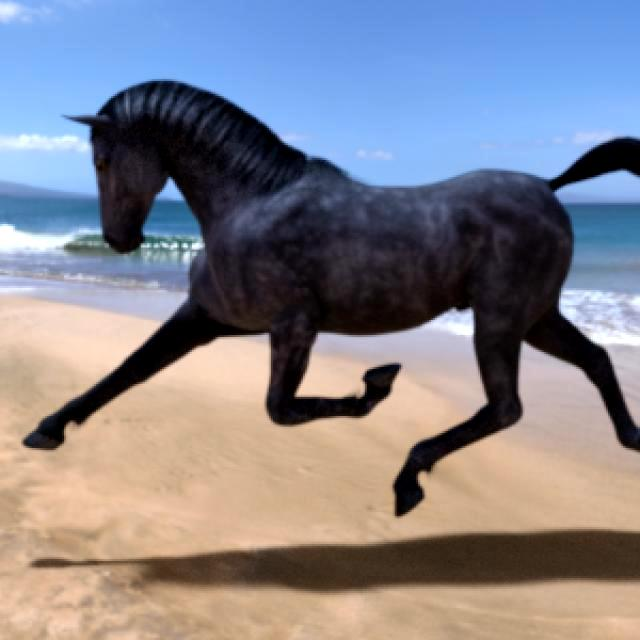horse: (24, 82, 640, 514)
